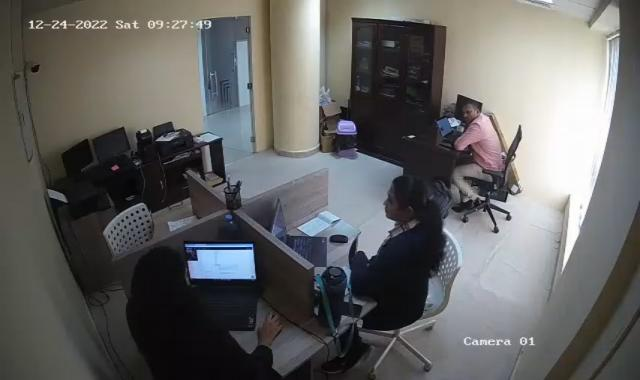no_hairnet: (135, 247, 192, 311), (382, 175, 423, 224), (460, 98, 482, 123)
